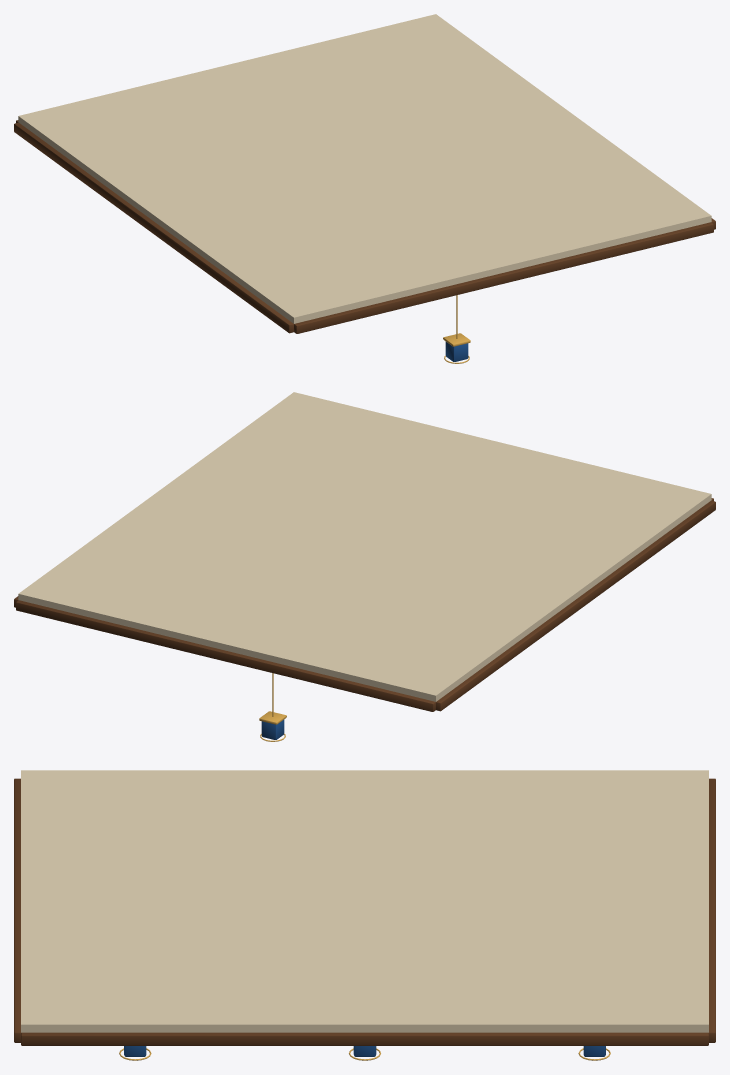
Rendered from CeilingHarbour.fbx.
3 renders of one model, top to bottom at view 1: azimuth 30°, elevation 25°; view 2: azimuth 150°, elevation 25°; view 3: azimuth 270°, elevation 25°, orthographic. The views are drawn at different scales.
Parts seen in each view (by area): view 1: CeilingHarbour; view 2: CeilingHarbour; view 3: CeilingHarbour.
Boxes of the visible parts, x1,y1,x2,y2 form: CeilingHarbour: [14, 14, 715, 363]; CeilingHarbour: [14, 392, 715, 741]; CeilingHarbour: [14, 770, 715, 1060].
Bounding box in the file's own units: 7160 × 2020 × 8160.
